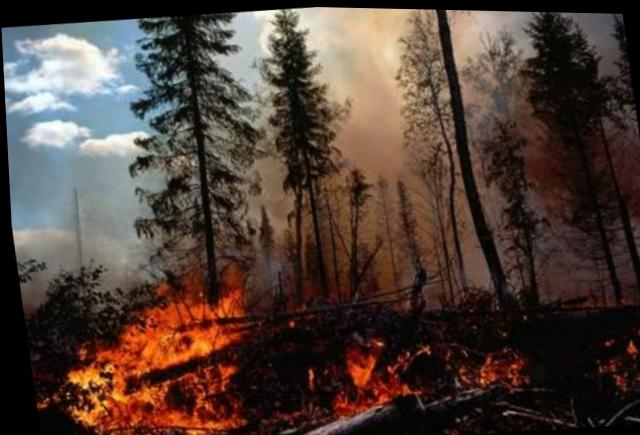fire: (46, 259, 267, 434), (317, 332, 424, 420), (463, 332, 537, 391)
